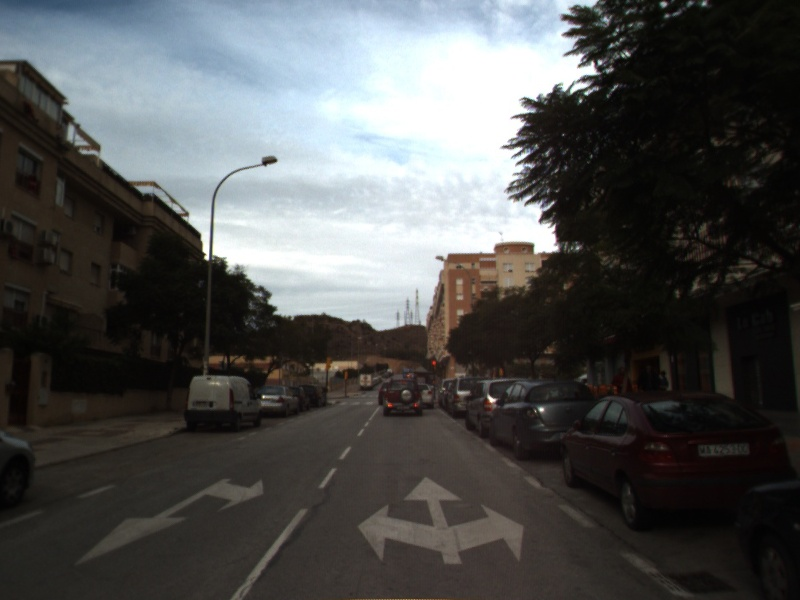STRAIGHT_LEFT_RIGHT: (355, 474, 526, 566)
